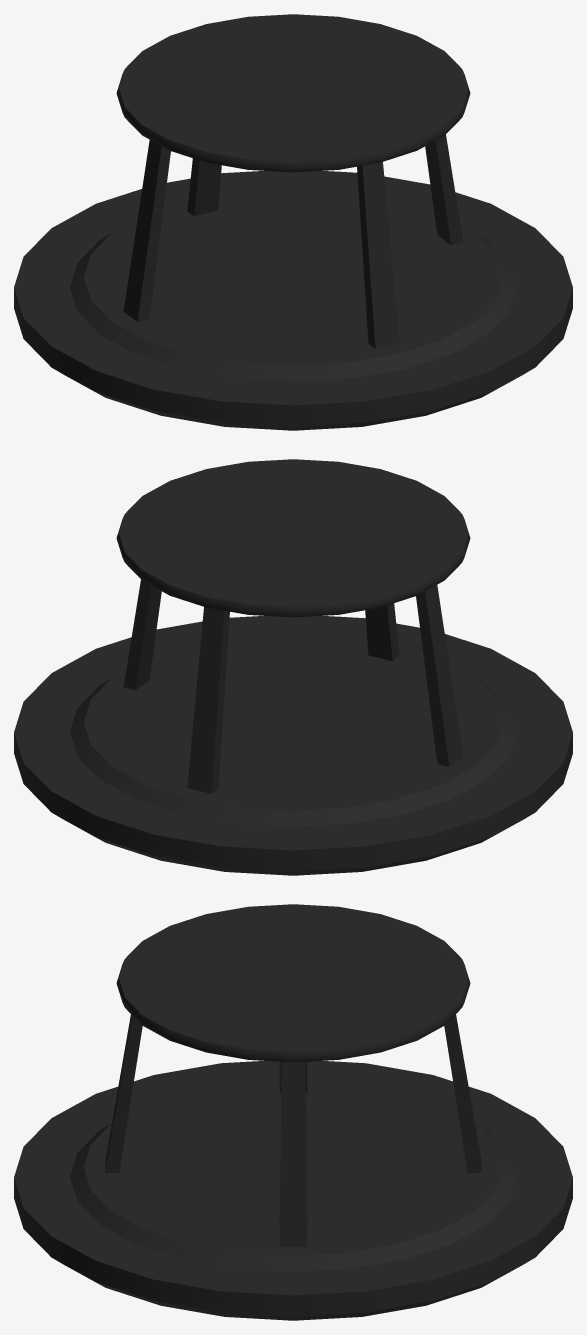
Rendered from TLV_2_Fairing_1_E.obj.
3 renders of one model, top to bottom at view 1: azimuth 30°, elevation 25°; view 2: azimuth 150°, elevation 25°; view 3: azimuth 270°, elevation 25°, orthographic.
Parts seen in each view (by area): view 1: TLV_2_Fairing_1_E; view 2: TLV_2_Fairing_1_E; view 3: TLV_2_Fairing_1_E.
Part boxes in pixels (box(x1,y1,x2,y2)): TLV_2_Fairing_1_E: box(14, 14, 572, 430); TLV_2_Fairing_1_E: box(14, 459, 572, 875); TLV_2_Fairing_1_E: box(14, 904, 572, 1320).
Size of the model in its own units: 1.5 by 0.6845 by 1.5.
